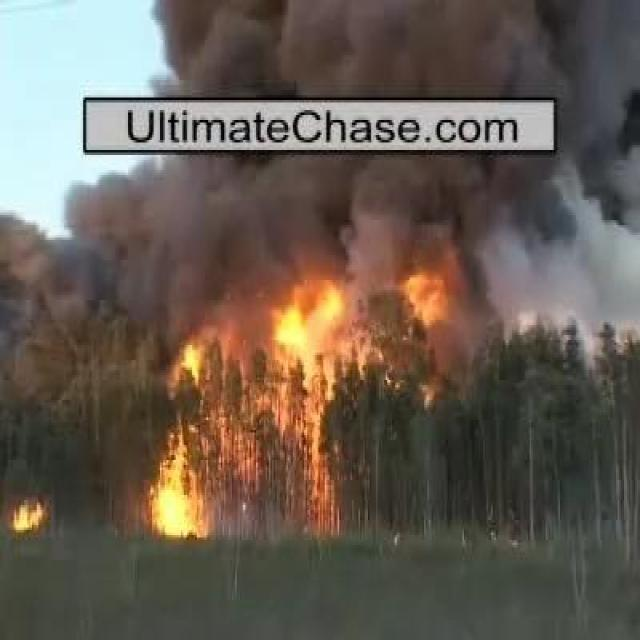Fire: (151, 451, 207, 541), (294, 417, 326, 535)
Smoke: (93, 156, 632, 336)
